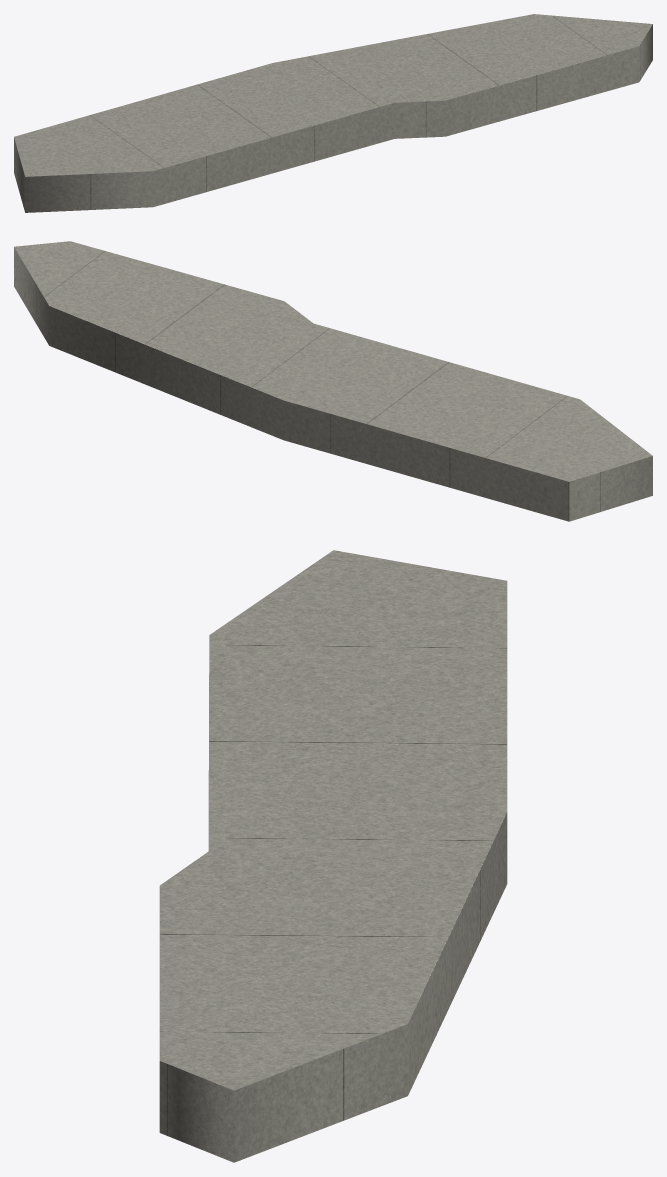
The model's file is curb_10.gltf.
The picture shows the model from 3 angles, top to bottom: view 1: azimuth 30°, elevation 25°; view 2: azimuth 150°, elevation 25°; view 3: azimuth 270°, elevation 25°; orthographic projection. The views are drawn at different scales.
Parts seen in each view (by area): view 1: curb_10.surface, curb_10.sides; view 2: curb_10.surface, curb_10.sides; view 3: curb_10.surface, curb_10.sides.
Boxes of the visible parts, x1,y1,x2,y2 form: curb_10.surface: (14, 14, 652, 176); curb_10.sides: (14, 24, 652, 212); curb_10.surface: (14, 241, 652, 481); curb_10.sides: (14, 247, 652, 521); curb_10.surface: (159, 550, 507, 1090); curb_10.sides: (159, 812, 507, 1162).
Bounding box in the file's own units: 2.8 × 0.2663 × 0.6994.
1 material, 1 textured.
